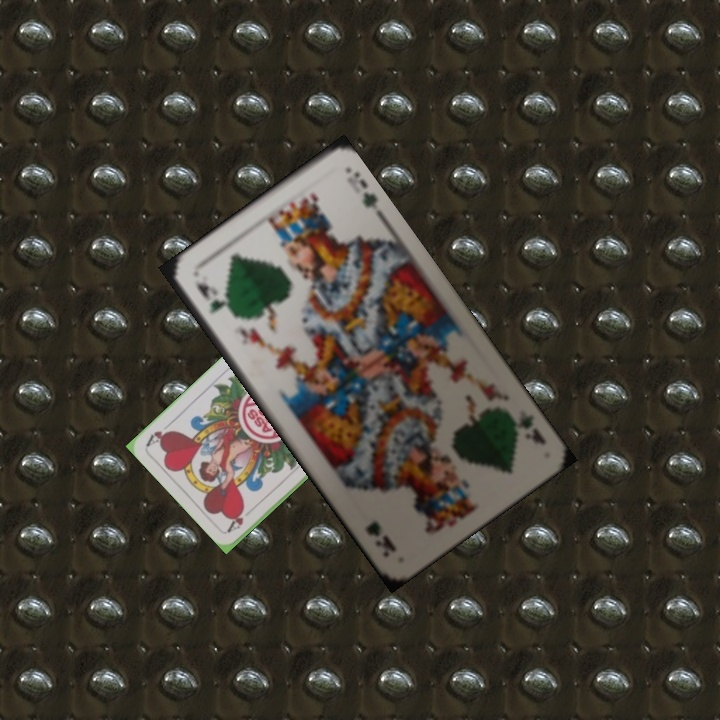GK: (500, 406, 548, 448), (190, 276, 228, 317)
HA: (224, 505, 247, 534)
